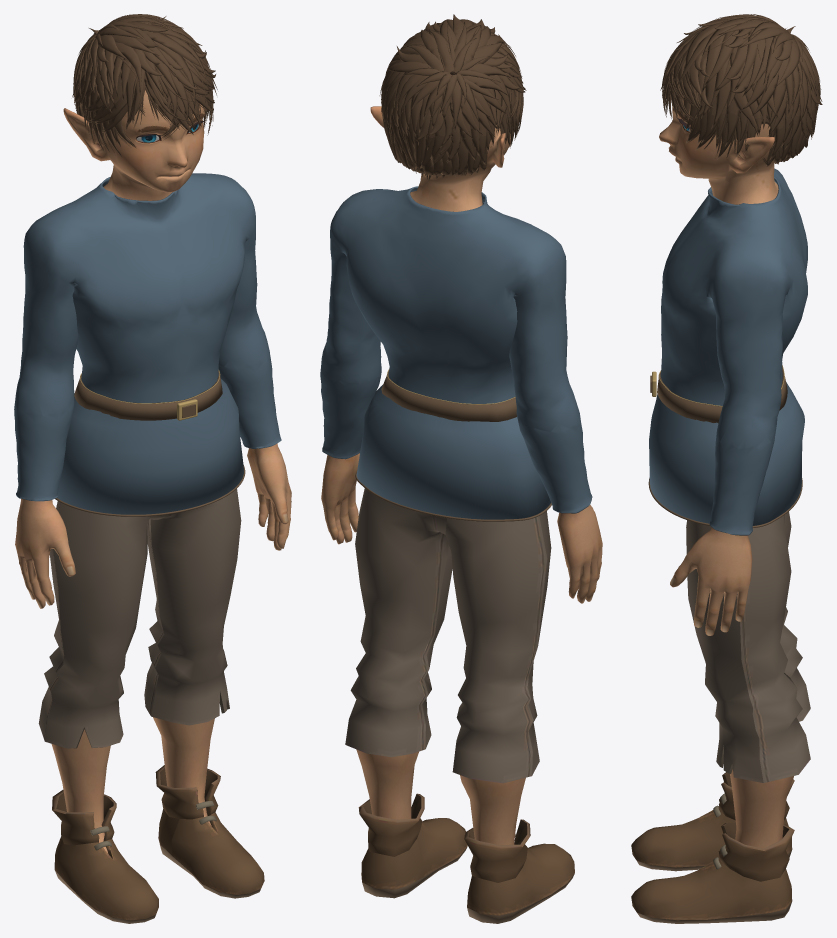
The model's file is boy-athletic.glb.
3 renders of one model, left to right at view 1: azimuth 30°, elevation 25°; view 2: azimuth 150°, elevation 25°; view 3: azimuth 270°, elevation 25°, orthographic.
Visible parts, largest first — view 1: sportive / sportive / boy / gentle / starter / fitted long-s, sportive / sportive / boy / gentle / base / boy • Pant_043__, sportive / sportive / boy / gentle / male / boy • continuous, sportive / sportive / boy / gentle / starter / continuous wa, sportive / sportive / boy / gentle / short / boy / short / b, sportive / sportive / boy / gentle / starter / flat fitted l; view 2: sportive / sportive / boy / gentle / base / boy • Pant_043__, sportive / sportive / boy / gentle / starter / fitted long-s, sportive / sportive / boy / gentle / short / boy / short / b, sportive / sportive / boy / gentle / starter / continuous wa, sportive / sportive / boy / gentle / male / boy • continuous, sportive / sportive / boy / gentle / starter / flat fitted l; view 3: sportive / sportive / boy / gentle / base / boy • Pant_043__, sportive / sportive / boy / gentle / starter / fitted long-s, sportive / sportive / boy / gentle / short / boy / short / b, sportive / sportive / boy / gentle / male / boy • continuous, sportive / sportive / boy / gentle / starter / continuous wa, sportive / sportive / boy / gentle / starter / flat fitted l.
Boxes of the visible parts, x1=… form: sportive / sportive / boy / gentle / starter / fitted long-s: x1=14, y1=173, x2=281, y2=501; sportive / sportive / boy / gentle / base / boy • Pant_043__: x1=38, y1=489, x2=264, y2=923; sportive / sportive / boy / gentle / male / boy • continuous: x1=15, y1=90, x2=291, y2=852; sportive / sportive / boy / gentle / starter / continuous wa: x1=57, y1=379, x2=243, y2=514; sportive / sportive / boy / gentle / short / boy / short / b: x1=72, y1=14, x2=217, y2=156; sportive / sportive / boy / gentle / starter / flat fitted l: x1=74, y1=371, x2=222, y2=420; sportive / sportive / boy / gentle / base / boy • Pant_043__: x1=345, y1=488, x2=574, y2=923; sportive / sportive / boy / gentle / starter / fitted long-s: x1=320, y1=186, x2=592, y2=513; sportive / sportive / boy / gentle / short / boy / short / b: x1=379, y1=14, x2=526, y2=181; sportive / sportive / boy / gentle / starter / continuous wa: x1=356, y1=385, x2=550, y2=519; sportive / sportive / boy / gentle / male / boy • continuous: x1=321, y1=106, x2=602, y2=844; sportive / sportive / boy / gentle / starter / flat fitted l: x1=381, y1=371, x2=516, y2=421; sportive / sportive / boy / gentle / base / boy • Pant_043__: x1=631, y1=512, x2=810, y2=923; sportive / sportive / boy / gentle / starter / fitted long-s: x1=660, y1=168, x2=807, y2=535; sportive / sportive / boy / gentle / short / boy / short / b: x1=660, y1=14, x2=822, y2=166; sportive / sportive / boy / gentle / male / boy • continuous: x1=659, y1=96, x2=793, y2=848; sportive / sportive / boy / gentle / starter / continuous wa: x1=649, y1=382, x2=804, y2=525; sportive / sportive / boy / gentle / starter / flat fitted l: x1=657, y1=367, x2=787, y2=423.
Size of the model in its own units: 0.5778 by 1.79 by 0.3586.
17 materials, 8 textured.
